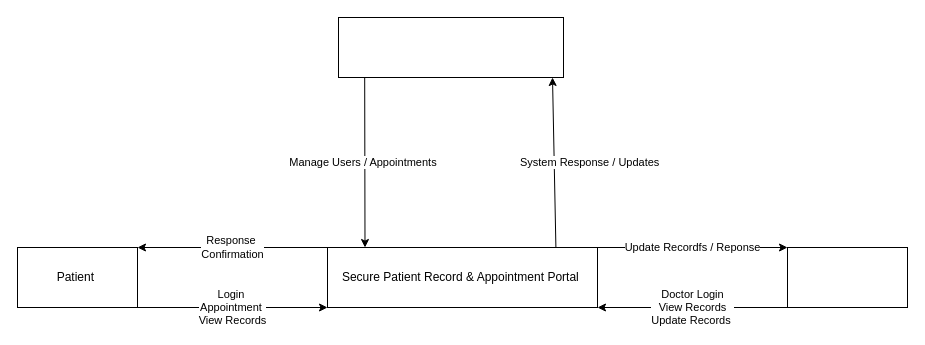
Some shapes in this 925 by 345 pixel diagram are drawn without their labels. The box of each missing label's shape, as (x1, y1, x2, y2) in pixels:
Admin: (338, 16, 564, 78)
Doctor: (786, 246, 908, 308)
